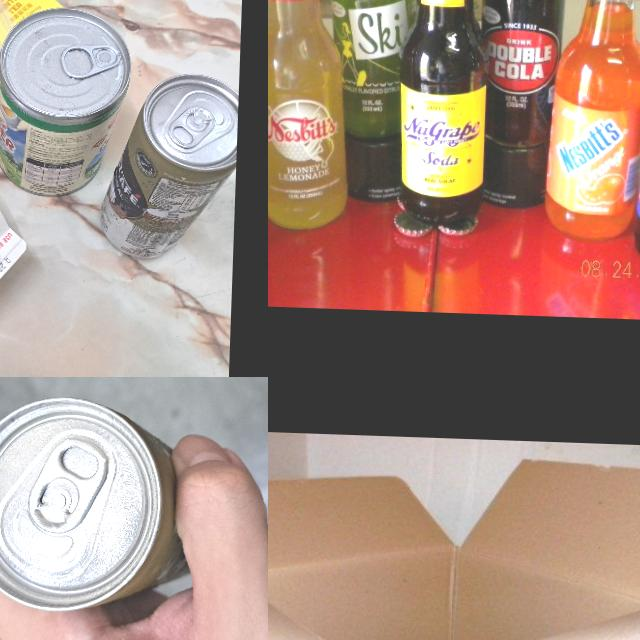aba de lata: (29, 440, 106, 538), (55, 39, 122, 81), (164, 104, 216, 150)
garrafa de vidro: (544, 0, 640, 242), (396, 0, 491, 238), (322, 0, 429, 204), (268, 0, 359, 233), (473, 0, 569, 212)
lata: (0, 390, 178, 614), (100, 68, 239, 262), (0, 6, 132, 198)
papelão: (268, 441, 640, 640)
